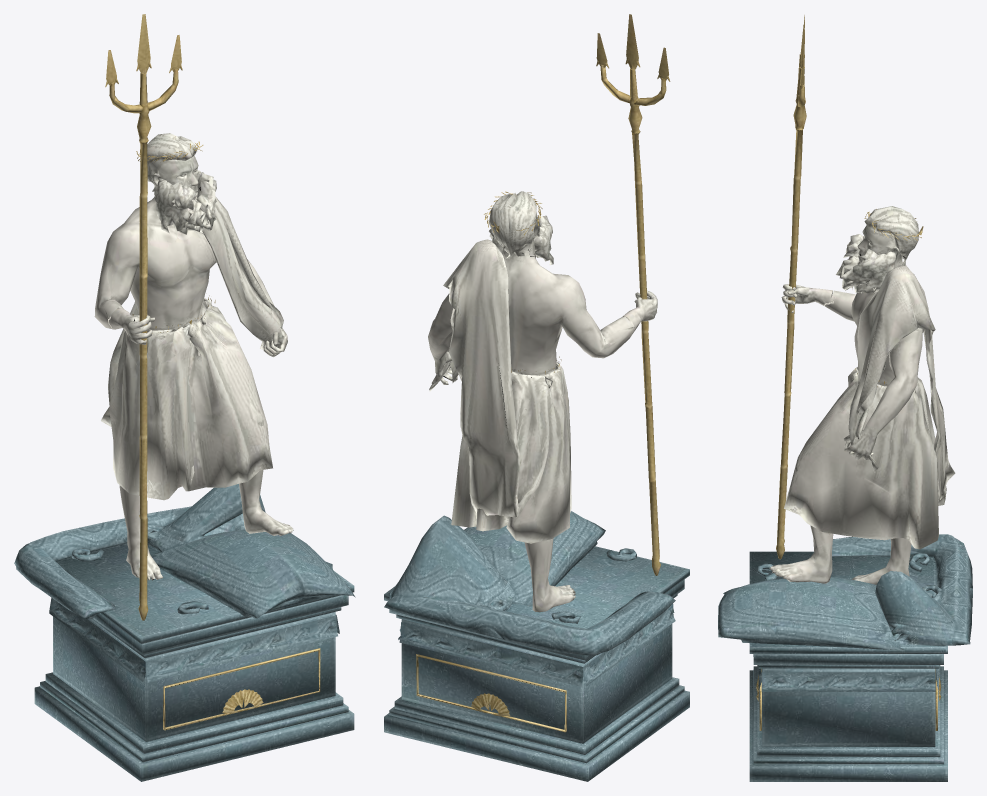
The model's file is guardian-tides-lod1.glb.
3 views of the same model, side by side, from view 1: azimuth 30°, elevation 25°; view 2: azimuth 150°, elevation 25°; view 3: azimuth 270°, elevation 25° (orthographic). The views are drawn at different scales.
Parts seen in each view (by area): view 1: TIDES__PEDESTAL, TIDES__CLOTH, TIDES__WAVES, TIDES__BODY, TIDES__TRIDENT, TIDES__HAIR_BEARD, TIDES__DETAILS, TIDES__FACE, TIDES__HAND_GRIP; view 2: TIDES__PEDESTAL, TIDES__CLOTH, TIDES__WAVES, TIDES__BODY, TIDES__TRIDENT, TIDES__HAIR_BEARD, TIDES__DETAILS, TIDES__HAND_GRIP; view 3: TIDES__PEDESTAL, TIDES__CLOTH, TIDES__WAVES, TIDES__BODY, TIDES__TRIDENT, TIDES__HAIR_BEARD, TIDES__HAND_GRIP, TIDES__FACE, TIDES__DETAILS.
Part boxes in pixels (x1,y1,x2,y2): TIDES__PEDESTAL: (34,542,354,781); TIDES__CLOTH: (101,197,283,500); TIDES__WAVES: (14,484,355,619); TIDES__BODY: (94,177,293,580); TIDES__TRIDENT: (105,14,182,620); TIDES__HAIR_BEARD: (147,133,216,234); TIDES__DETAILS: (132,141,320,730); TIDES__FACE: (152,155,199,199); TIDES__HAND_GRIP: (109,308,155,344); TIDES__PEDESTAL: (384,546,689,781); TIDES__CLOTH: (429,239,571,543); TIDES__WAVES: (384,511,675,655); TIDES__BODY: (428,245,633,612); TIDES__TRIDENT: (596,14,670,575); TIDES__HAIR_BEARD: (489,191,553,264); TIDES__DETAILS: (416,191,566,732); TIDES__HAND_GRIP: (622,290,657,333); TIDES__PEDESTAL: (749,551,947,781); TIDES__CLOTH: (784,265,955,549); TIDES__WAVES: (718,534,972,650); TIDES__BODY: (769,254,924,584); TIDES__TRIDENT: (776,15,806,559); TIDES__HAIR_BEARD: (836,206,918,293); TIDES__HAND_GRIP: (781,284,833,313); TIDES__FACE: (857,225,900,267); TIDES__DETAILS: (756,209,941,730).
Bounding box in the file's own units: 3.38 × 9.9 × 3.34.
Materials: 3 (3 with a texture image).
